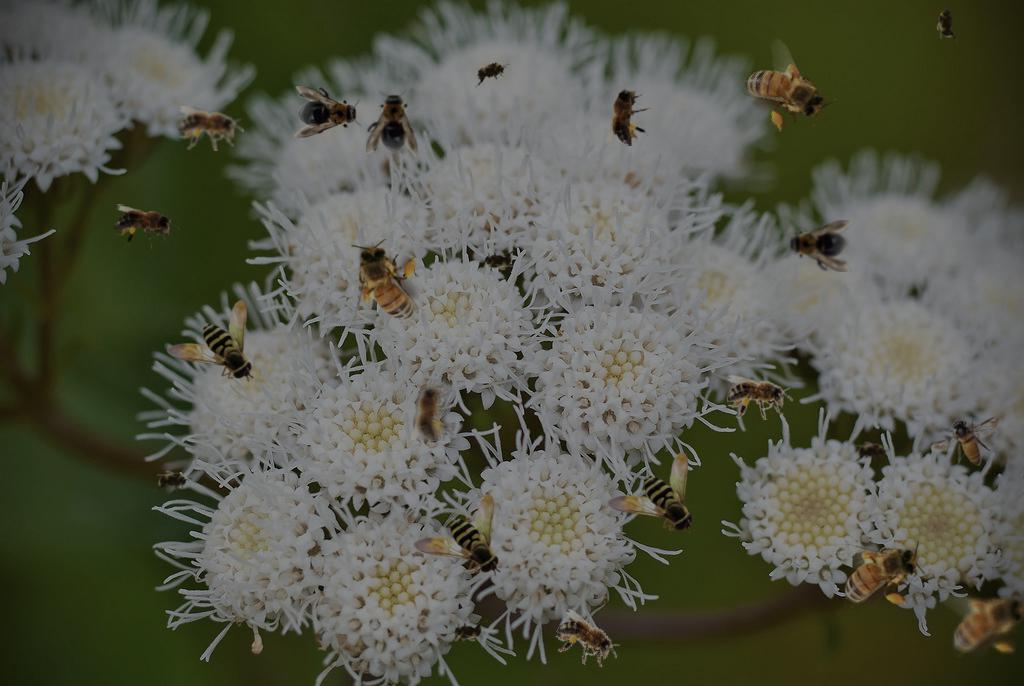Bee: (729, 33, 841, 148), (607, 452, 695, 534), (413, 494, 501, 576), (166, 300, 254, 382), (832, 540, 925, 608), (351, 239, 419, 332), (940, 589, 1024, 657), (548, 607, 628, 676), (930, 416, 1001, 466), (784, 220, 852, 272), (366, 89, 418, 157), (294, 86, 362, 138), (606, 80, 651, 146), (114, 204, 180, 249), (727, 375, 793, 420), (178, 106, 244, 151), (411, 377, 456, 443), (468, 55, 514, 89), (477, 248, 519, 272), (448, 620, 488, 642), (153, 470, 193, 492), (852, 441, 892, 463), (936, 3, 958, 43)
